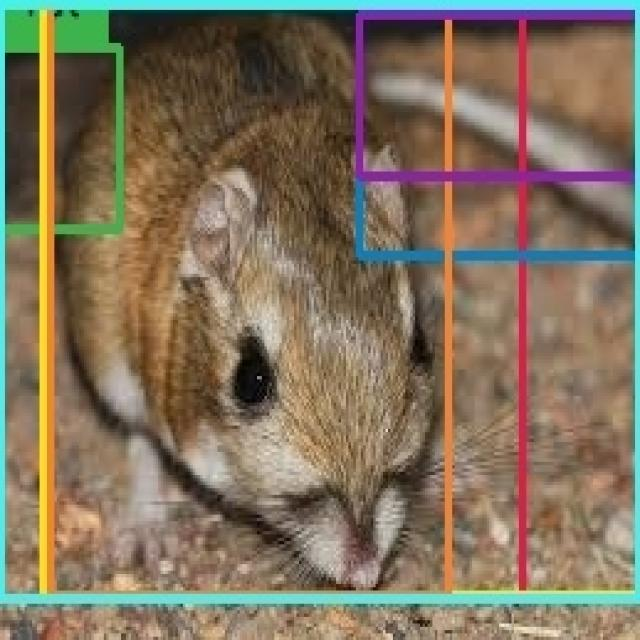rat: (1, 5, 639, 599), (42, 5, 638, 595), (45, 7, 522, 597), (51, 5, 448, 595), (358, 15, 640, 256), (361, 17, 640, 178), (0, 46, 119, 228)
